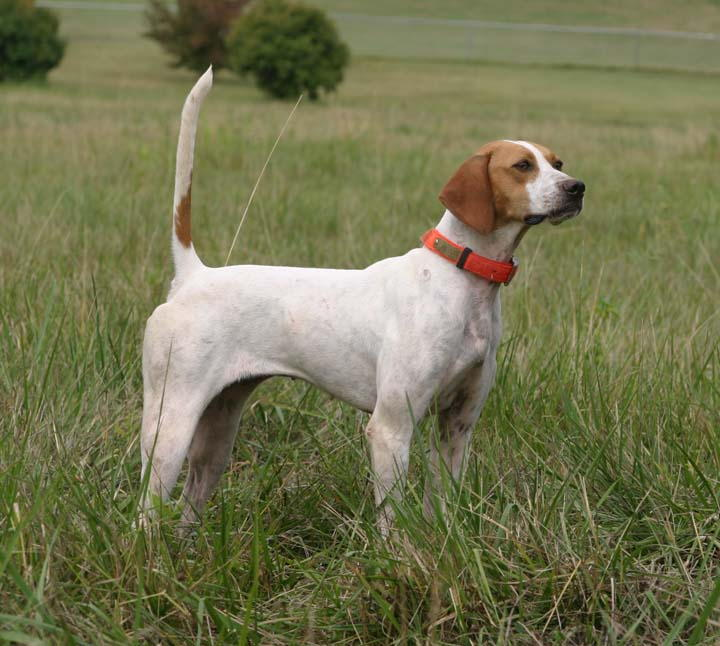tail: (145, 63, 222, 285)
